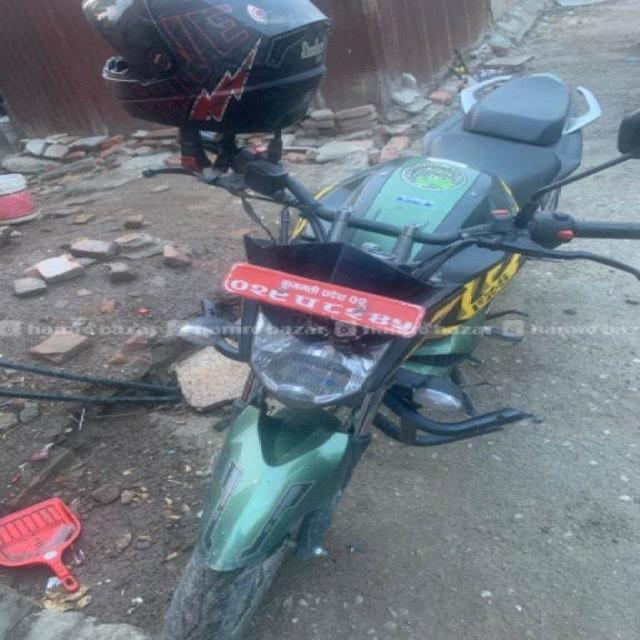License-plate: (226, 255, 424, 342)
